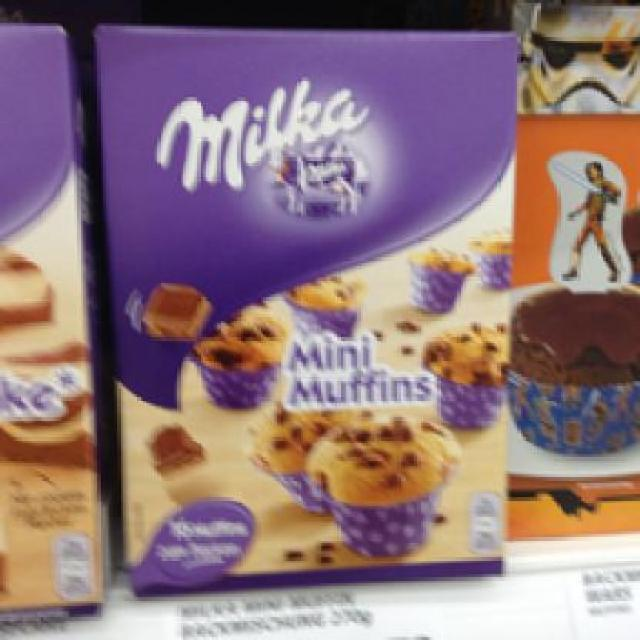Cake: (86, 16, 523, 592)
